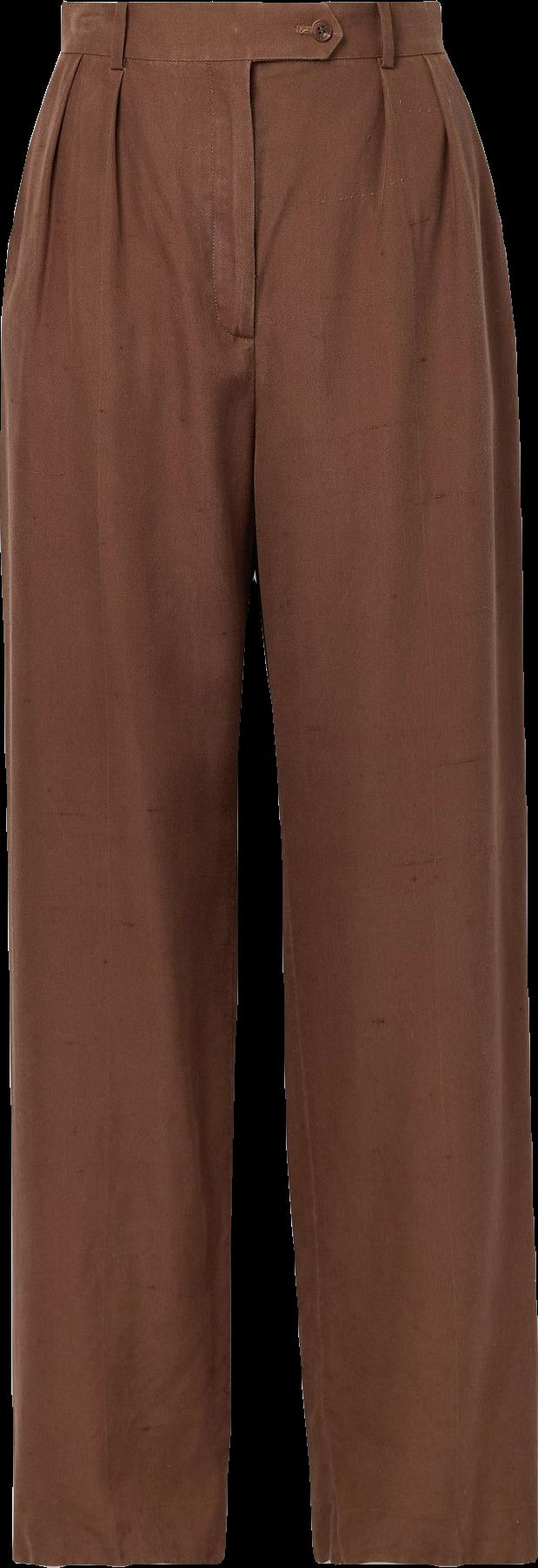Hemline: (3, 1544, 228, 1567), (312, 1546, 537, 1567)
Pantleg: (242, 2, 537, 1565), (0, 1, 256, 1564)
Waistline: (56, 39, 447, 78), (53, 0, 442, 23)
